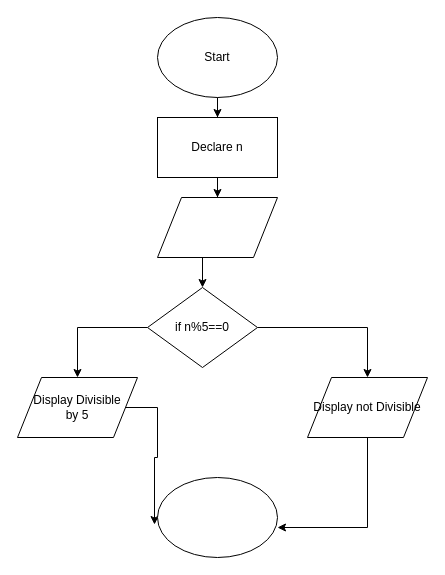
The diagram is 445 pixels wide and 575 high, and some of its shapes have lost their labels. The shapes that lost their labels are listed below. From the top down, each one's centre as x and y in pixels, then its label:
At (217,227): "Read n".
At (217,517): "Stop".
